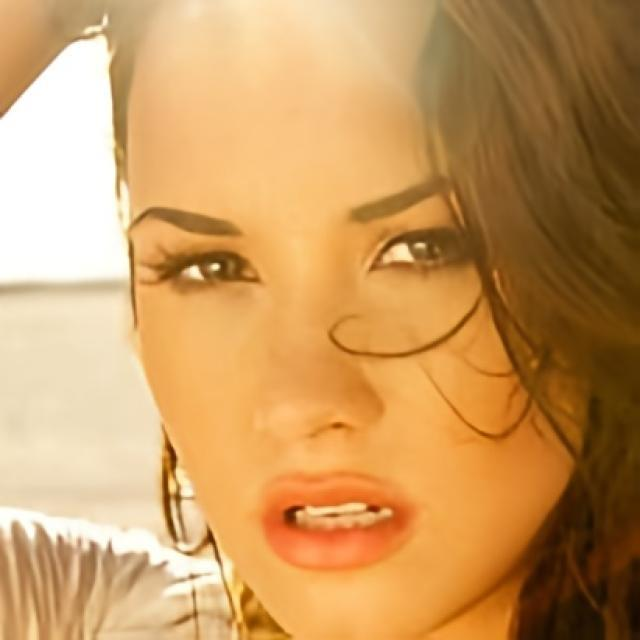disgust: (120, 0, 589, 640)
